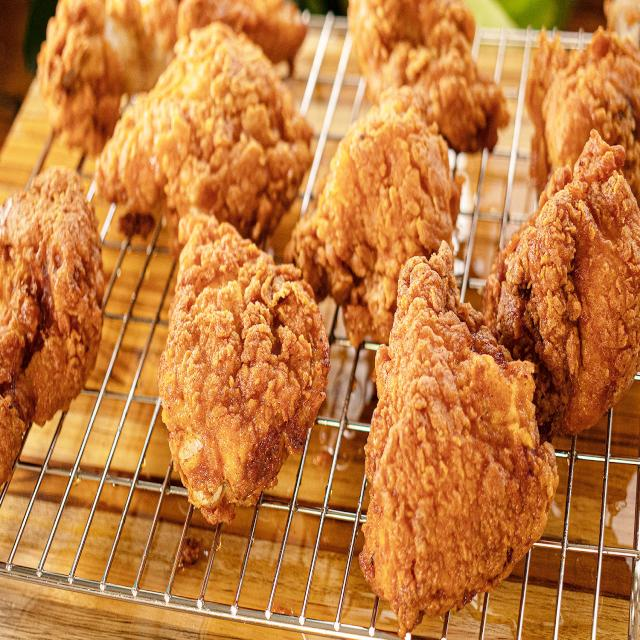fried_chicken: (359, 239, 559, 639), (160, 210, 329, 526), (98, 22, 316, 239), (484, 131, 640, 434), (0, 166, 103, 512), (40, 0, 177, 151), (526, 27, 640, 203)
